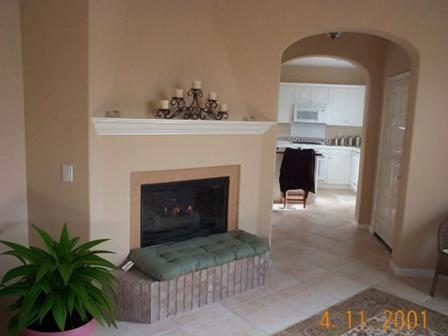chair: (281, 149, 317, 211), (429, 216, 448, 297)
pottedplant: (1, 222, 117, 336)
